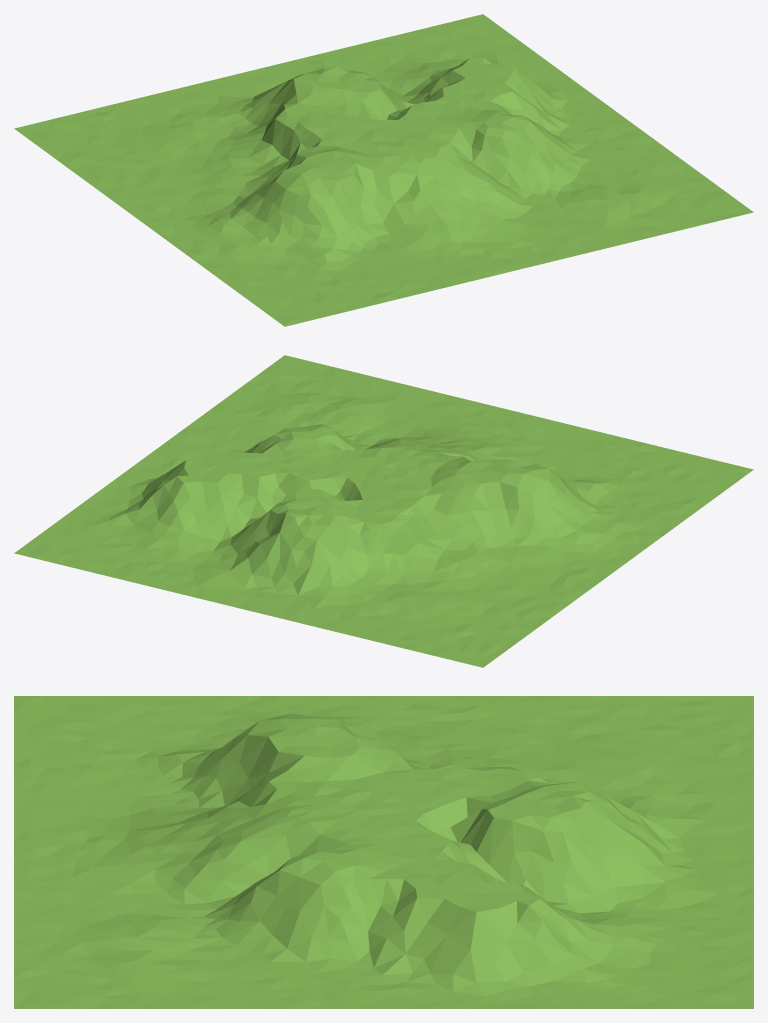
The model's file is MT_Terrain_L_d_09.fbx.
The picture shows the model from 3 angles, top to bottom: view 1: azimuth 30°, elevation 25°; view 2: azimuth 150°, elevation 25°; view 3: azimuth 270°, elevation 25°; orthographic projection. The views are drawn at different scales.
Visible parts, largest first — view 1: MT_Terrain_L_d_09; view 2: MT_Terrain_L_d_09; view 3: MT_Terrain_L_d_09.
Part boxes in pixels (bbox=[...]): MT_Terrain_L_d_09: bbox=[14, 14, 753, 326]; MT_Terrain_L_d_09: bbox=[14, 355, 753, 667]; MT_Terrain_L_d_09: bbox=[14, 696, 753, 1008].
Bounding box in the file's own units: 10000 × 927 × 10000.
